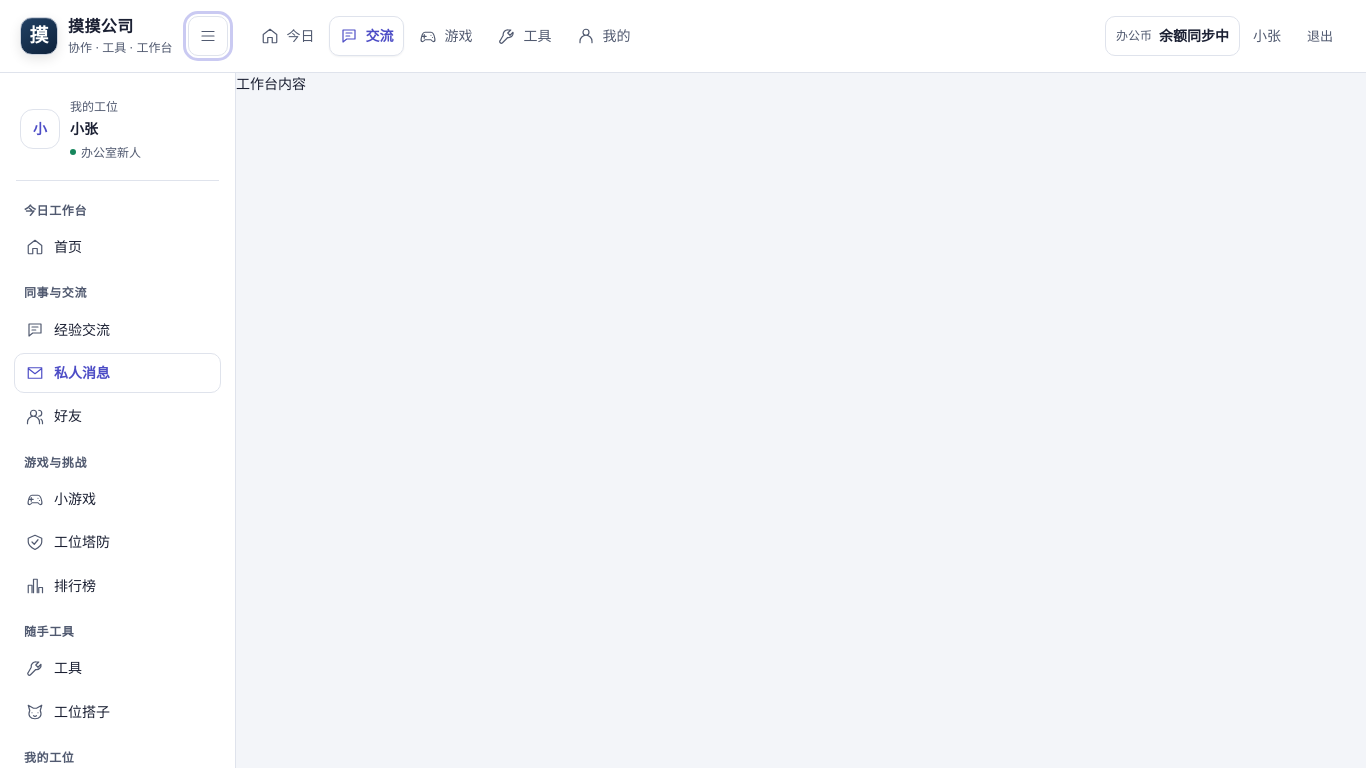
Test: CommunitySiteLayout private-message connection and unread badge › opens a searchable directory, hides unauthorized development, and closes on navigation
Click the button named "浏览全部栏目" at [208, 36], box [188,16,228,56]
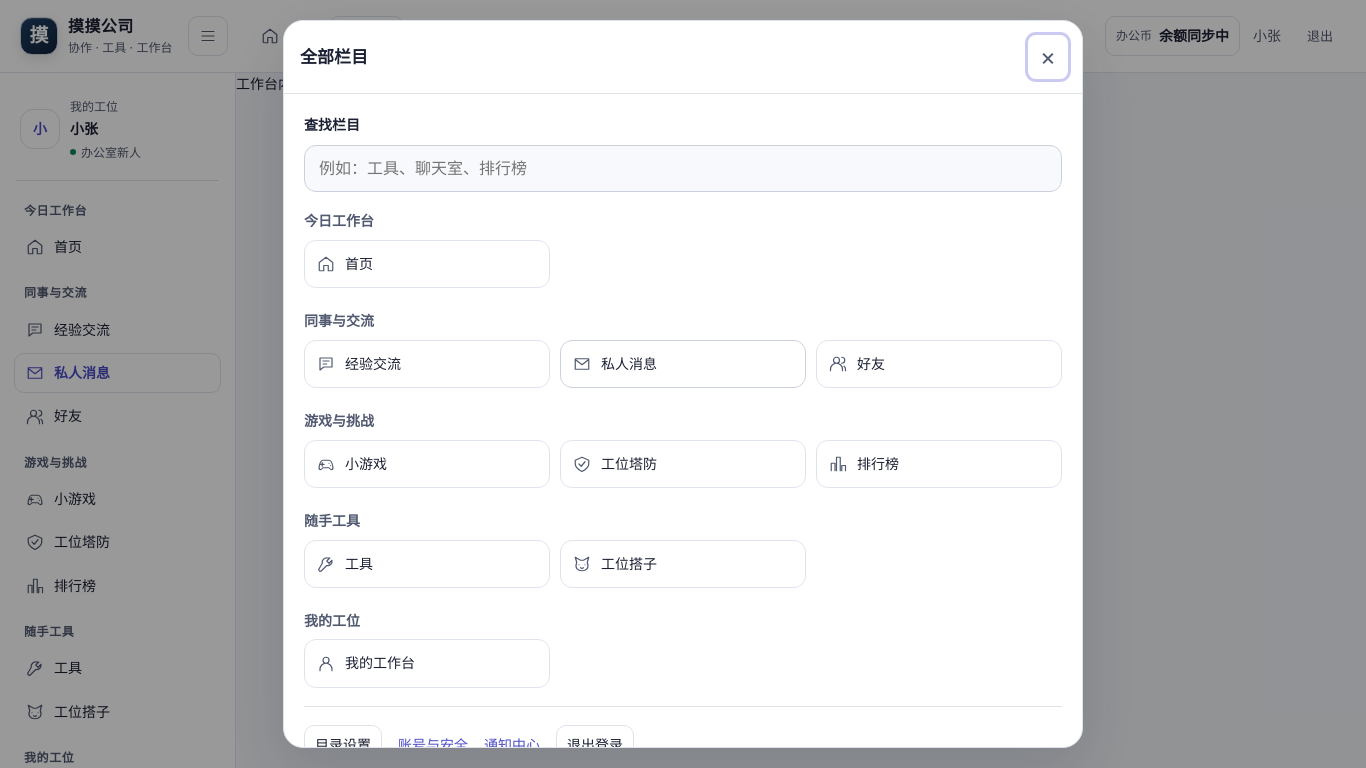
expect the button named "浏览全部栏目" is expanded: met, box [188,16,228,56]
Type "不存在的栏目" into the search field labelled "查找栏目" at [683, 169], box [304,145,1062,192]
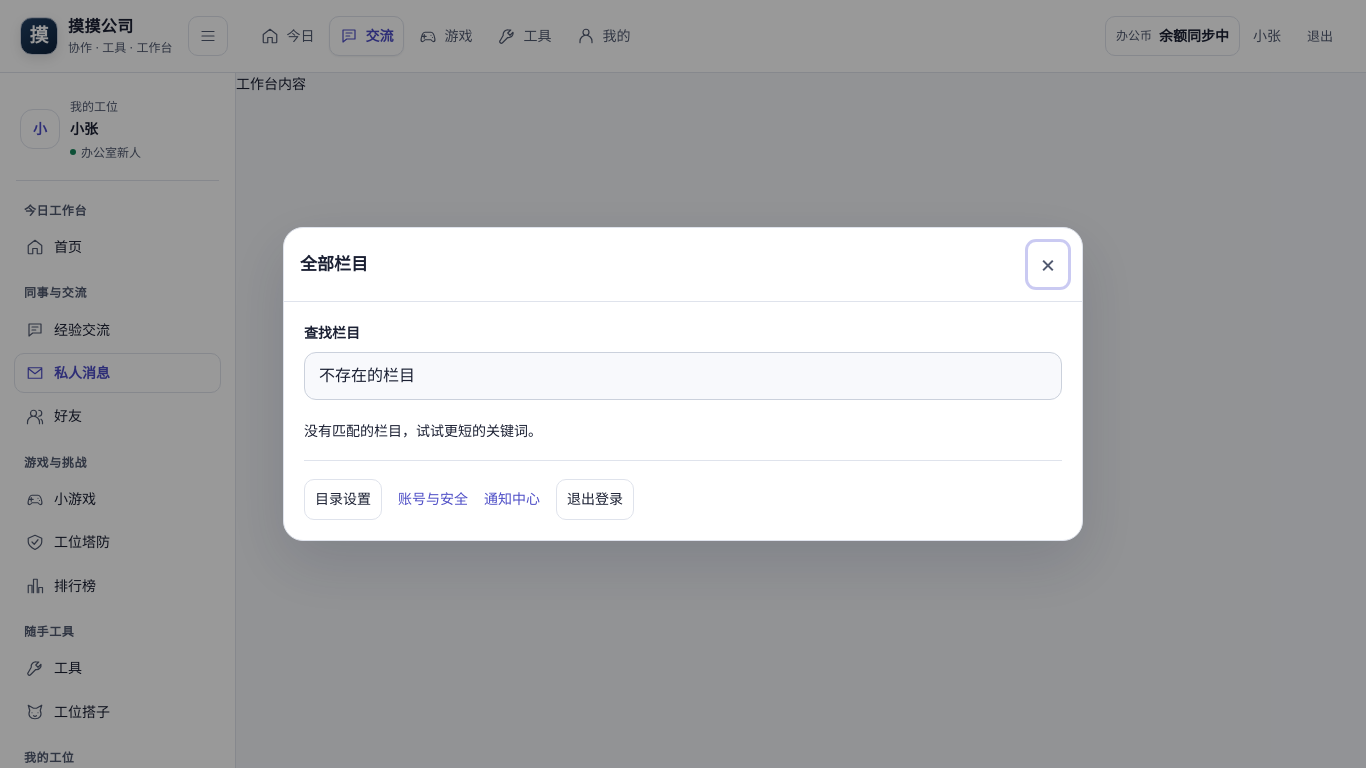
expect the message shows "没有匹配的栏目": met, box [304,422,542,439]
Replace the text in the search field labelled "查找栏目" with "聊天室" at [683, 376], box [304,352,1062,400]
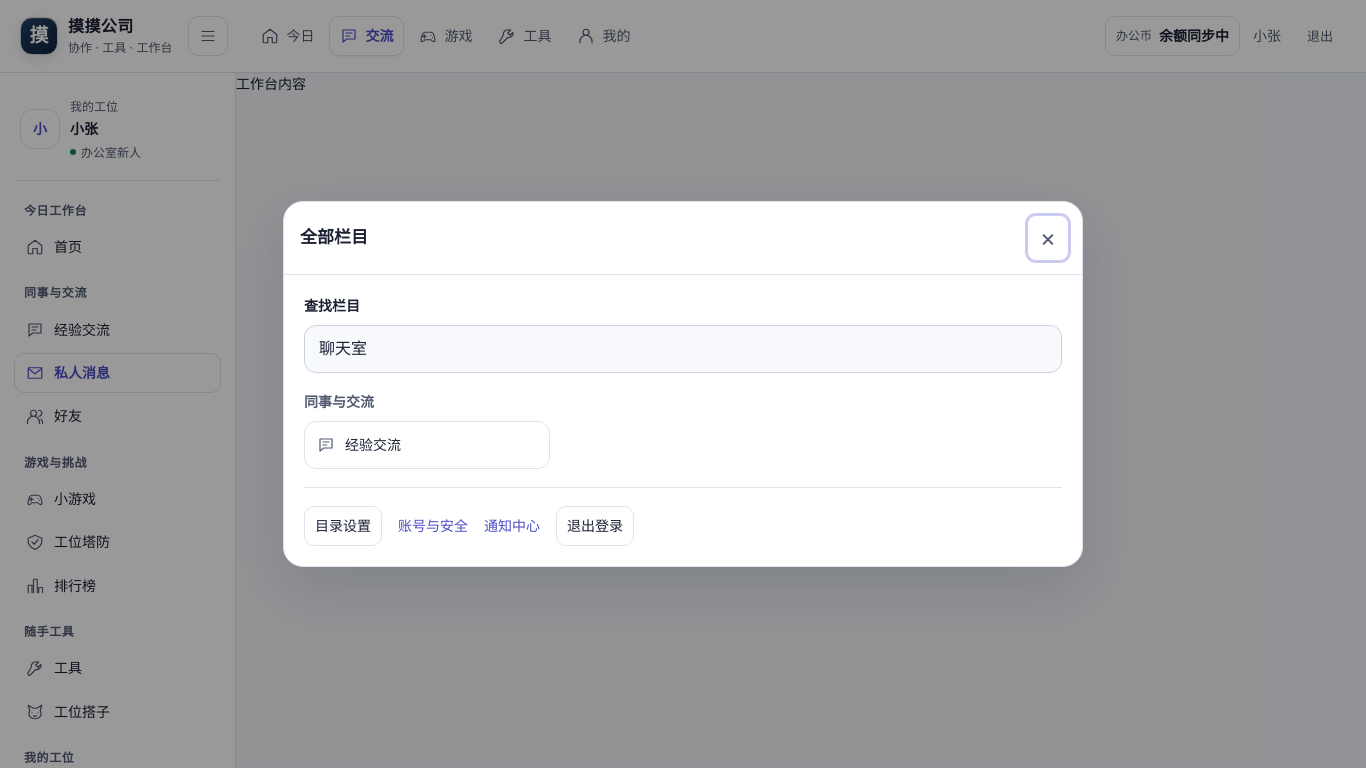
Replace the text in the search field labelled "查找栏目" with " 工具 " at [683, 349], box [304,326,1062,373]
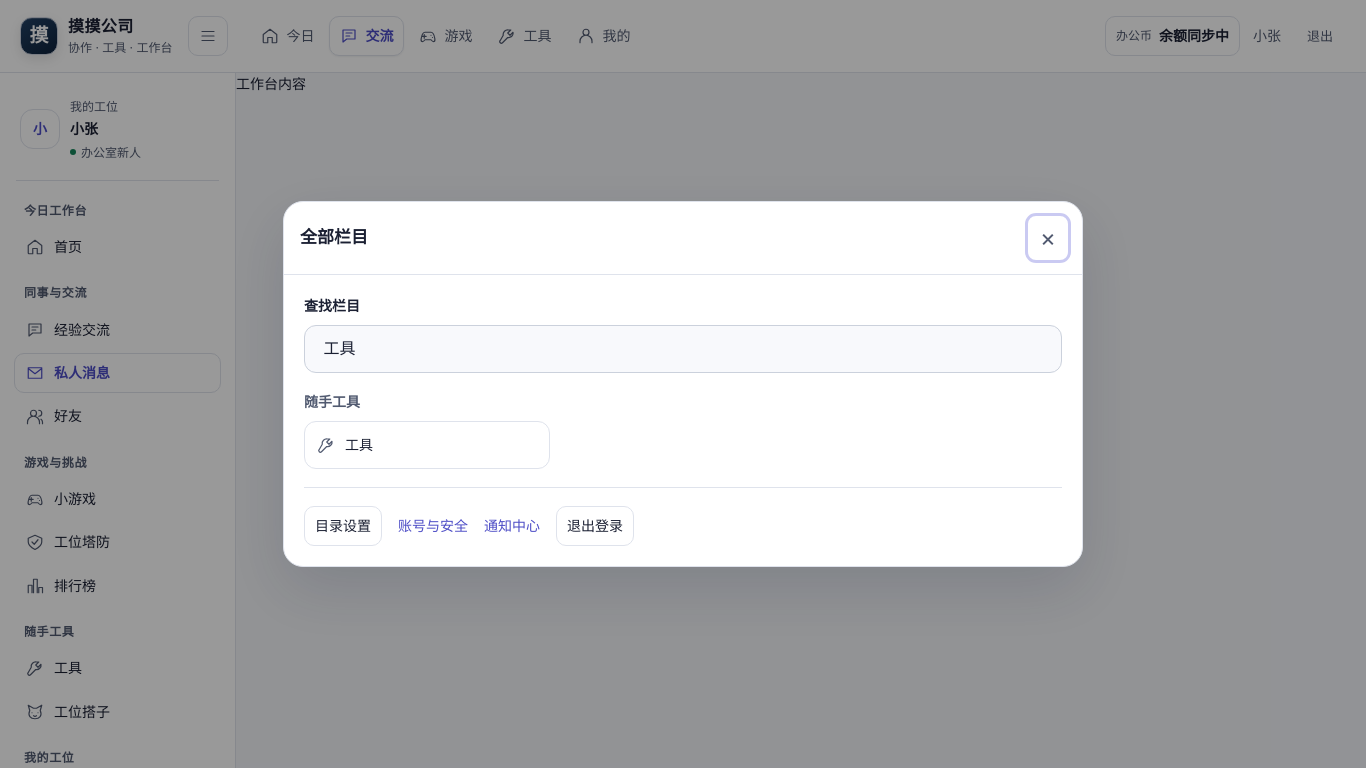
Click the link "工具" at [427, 445], box [304,420,550,469]
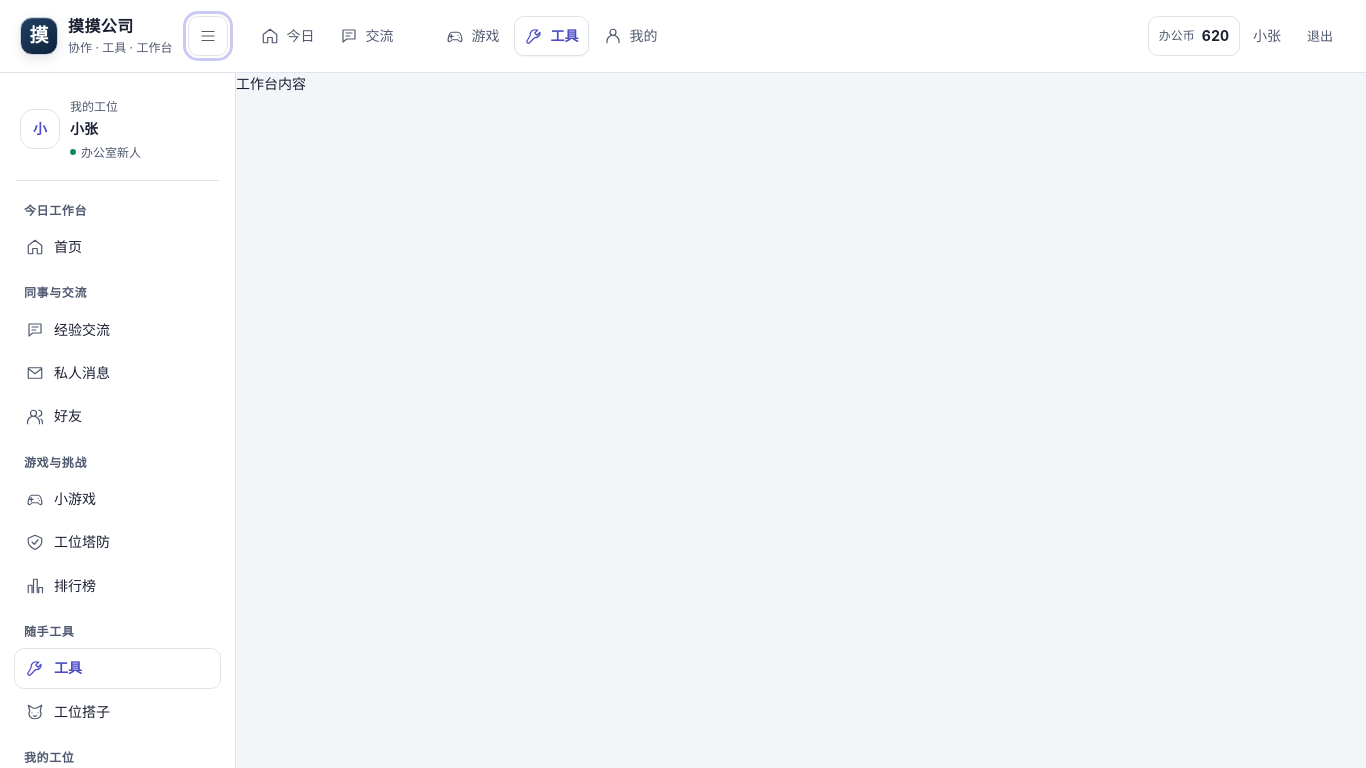
expect the dialog is gone: met
expect the button named "浏览全部栏目" is collapsed: met, box [188,16,228,56]
